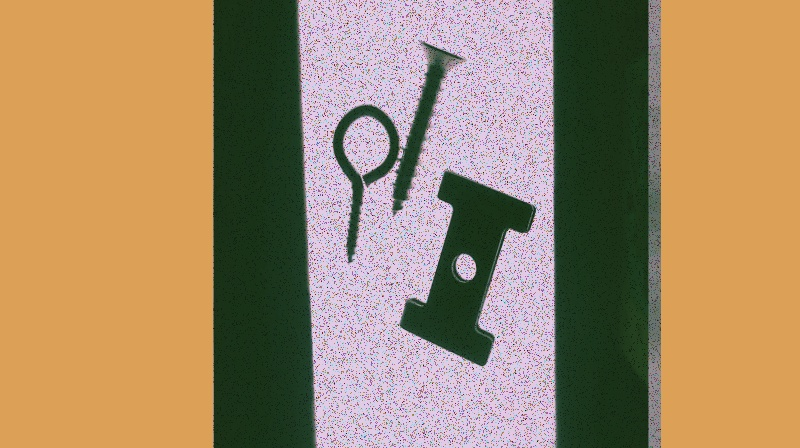O001: (330, 101, 402, 266)
O002: (397, 169, 536, 368)
S001: (389, 35, 469, 221)
